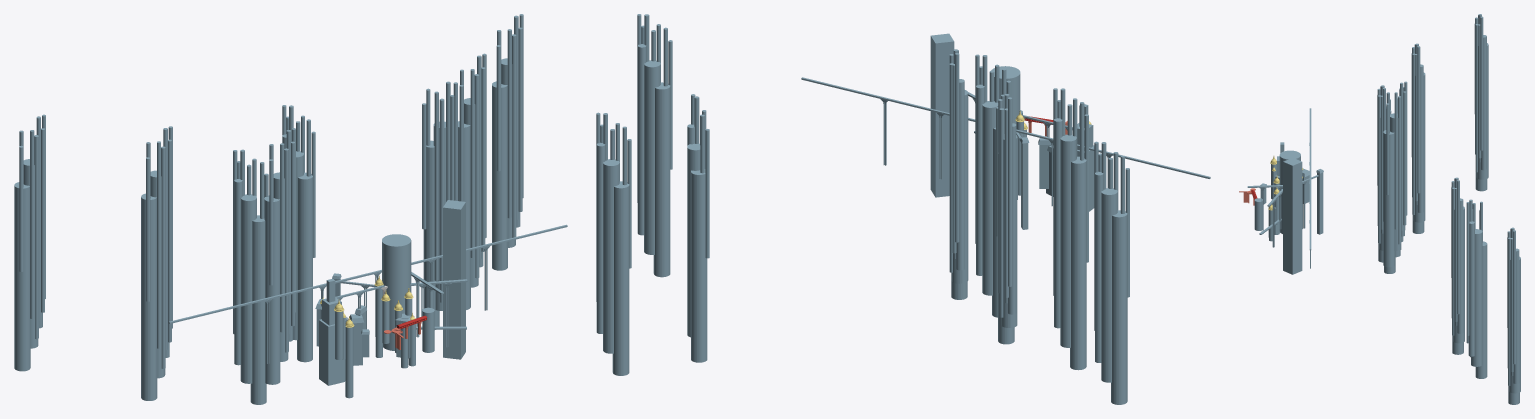
3 views of the same model, side by side, from view 1: azimuth 30°, elevation 25°; view 2: azimuth 150°, elevation 25°; view 3: azimuth 270°, elevation 25° (orthographic). The views are drawn at different scales.
Visible parts, largest first — view 1: Cube.021, back1|Cylinder.024|Dupli|9, Cylinder.034, Cylinder.044, back1.001|Cylinder.024|Dupli|9, Cylinder.054, back1.001|Cylinder.023|Dupli|8, Cylinder.024, Cylinder, Cube.007, back1.002|Cylinder.024|Dupli|9, back1.001|Cylinder.022|Dupli|7 (+43 smaller); view 2: Cylinder.034, Cube.021, Cylinder.054, back1.003|Cylinder.024|Dupli|9, Cylinder.044, back1.002|Cylinder.024|Dupli|9, Cylinder.033, back1.003|Cylinder.023|Dupli|8, Cylinder.043, Cylinder.053, Cylinder.023, Cylinder.032 (+22 smaller); view 3: Cube.021, back1|Cylinder.024|Dupli|9, back1.002|Cylinder.023|Dupli|8, back1.002|Cylinder.024|Dupli|9, back1.002|Cylinder.022|Dupli|7, Cylinder.033, Cylinder.032, back1.003|Cylinder.022|Dupli|7, Cylinder.052, Cylinder.042, back1|Cylinder.018|Dupli|3, Cylinder.031 (+27 smaller).
Boxes of the visible parts, box(x1,y1,x2,y2) form: Cube.021: box(443, 200, 465, 359); back1|Cylinder.024|Dupli|9: box(297, 172, 312, 362); Cylinder.034: box(141, 193, 157, 400); Cylinder.044: box(14, 182, 30, 371); back1.001|Cylinder.024|Dupli|9: box(250, 215, 266, 404); Cylinder.054: box(492, 81, 507, 270); back1.001|Cylinder.023|Dupli|8: box(240, 194, 256, 383); Cylinder.024: box(264, 195, 280, 384); Cylinder: box(382, 234, 411, 350); Cube.007: box(319, 278, 347, 385); back1.002|Cylinder.024|Dupli|9: box(423, 140, 439, 329); back1.001|Cylinder.022|Dupli|7: box(234, 179, 242, 365); Cylinder.034: box(1070, 156, 1086, 370); Cube.021: box(930, 33, 954, 197); Cylinder.054: box(653, 82, 670, 277); back1.003|Cylinder.024|Dupli|9: box(612, 181, 629, 375); Cylinder.044: box(1111, 210, 1127, 404); back1.002|Cylinder.024|Dupli|9: box(691, 169, 707, 362); Cylinder.033: box(1060, 134, 1076, 347); back1.003|Cylinder.023|Dupli|8: box(603, 159, 619, 353); Cylinder.043: box(1101, 188, 1117, 382); Cylinder.053: box(644, 60, 660, 254); Cylinder.023: box(982, 101, 998, 295); Cylinder.032: box(1054, 118, 1062, 328); Cube.021: box(1283, 158, 1302, 274); back1|Cylinder.024|Dupli|9: box(1383, 130, 1394, 267); back1.002|Cylinder.023|Dupli|8: box(1471, 229, 1482, 366); back1.002|Cylinder.024|Dupli|9: box(1475, 241, 1487, 378); back1.002|Cylinder.022|Dupli|7: box(1468, 221, 1474, 356); Cylinder.033: box(1413, 72, 1425, 222); Cylinder.032: box(1417, 64, 1423, 212); back1.003|Cylinder.022|Dupli|7: box(1513, 248, 1519, 383); Cylinder.052: box(1457, 198, 1463, 333); Cylinder.042: box(1480, 35, 1486, 170); back1|Cylinder.018|Dupli|3: box(1398, 96, 1401, 244); Cylinder.031: box(1417, 46, 1420, 193).
Bounding box in the file's own units: 70417 × 43360 × 47980.
